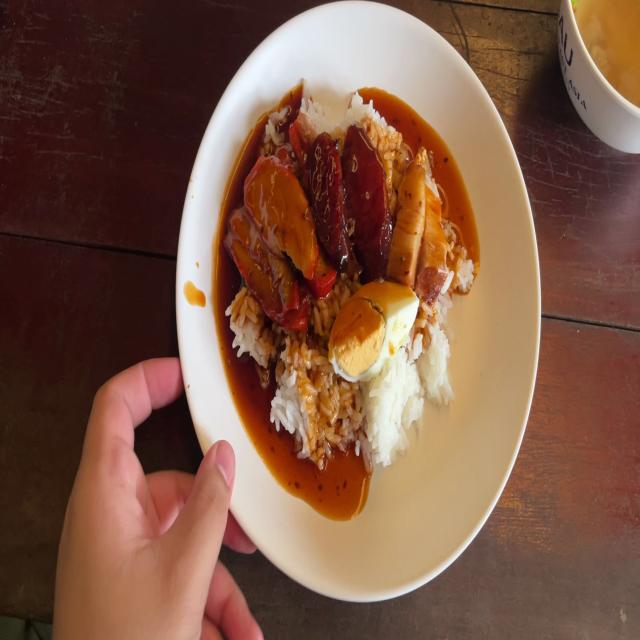01boiled_egg: (332, 273, 418, 383)
01chainese_sausage: (313, 132, 386, 268)
01crispy_pork: (390, 150, 443, 296)
01red_pork: (223, 164, 320, 324)
01red_pork_and_crispy_pork: (227, 87, 467, 453)
01rice: (231, 319, 328, 449), (366, 357, 417, 462)
